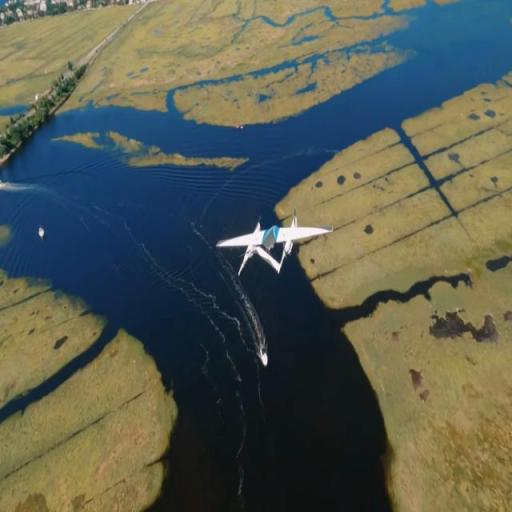uav: (206, 204, 338, 282)
